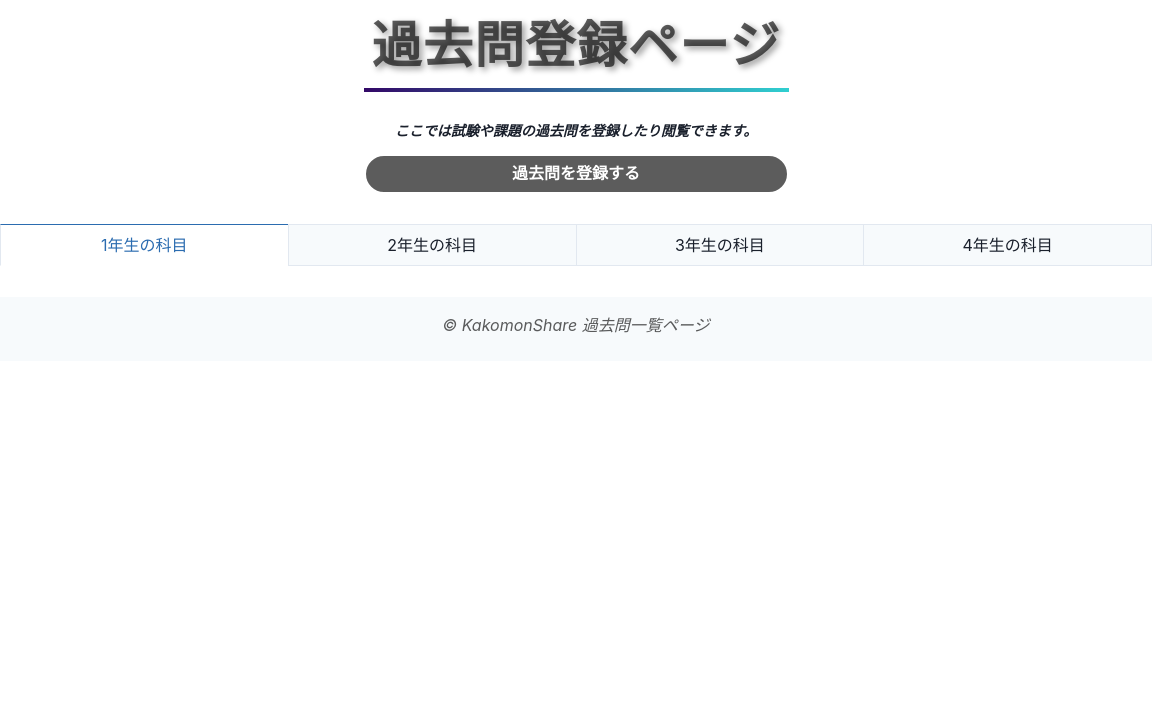
Test: 過去問の募集投稿ページのテスト › 過去問が正常にできるか
The image size is (1152, 720).
過去問登録モーダルを開く
Click the button with test id "kakomon-register-modal" at (576, 174), box left=364, top=154, right=788, bottom=194
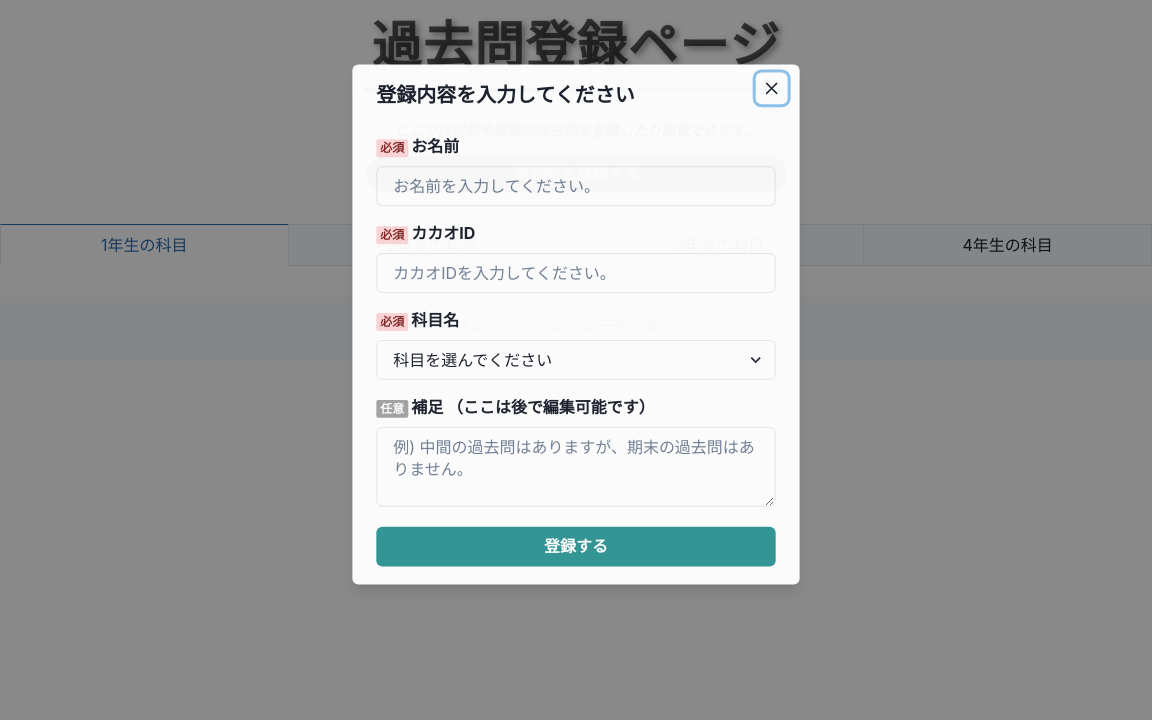
Expected: the button with test id "kakomon-register-button" is shown, left=376, top=527, right=776, bottom=567
フォームに各値を入力
Type "テスト太郎" into the field with test id "name-input" at (576, 186), box left=376, top=166, right=776, bottom=206
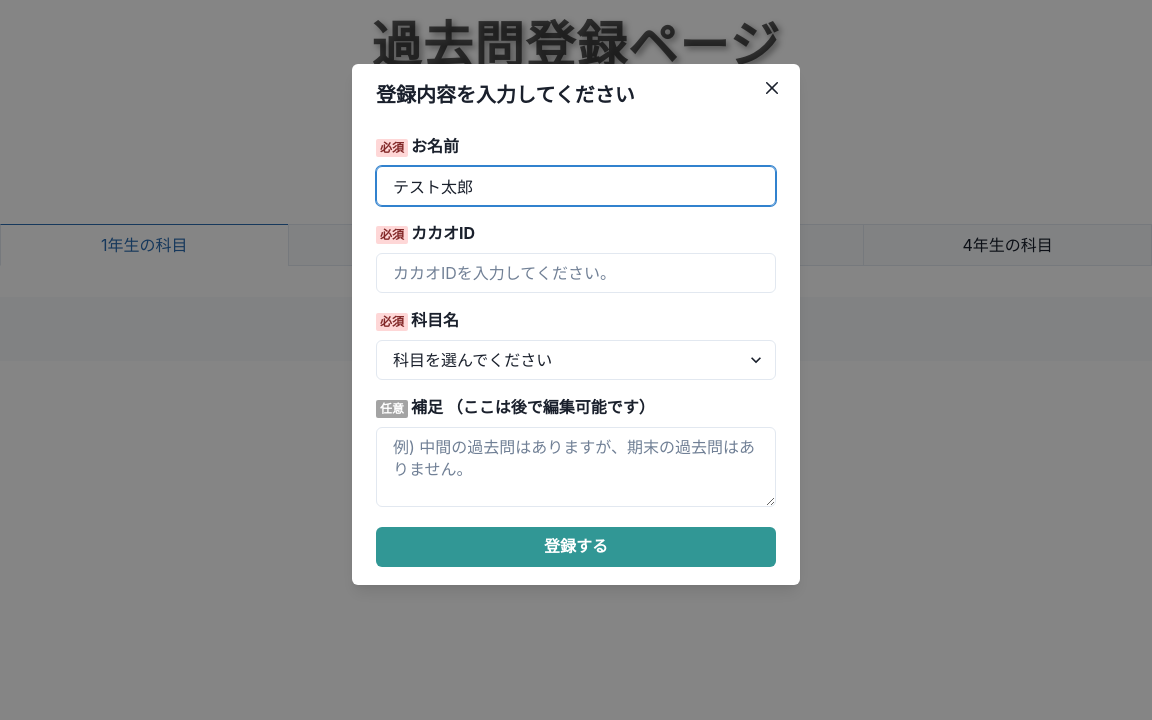
Type "test-id" into the field with test id "kakaoId-input" at (576, 273), box left=376, top=253, right=776, bottom=293
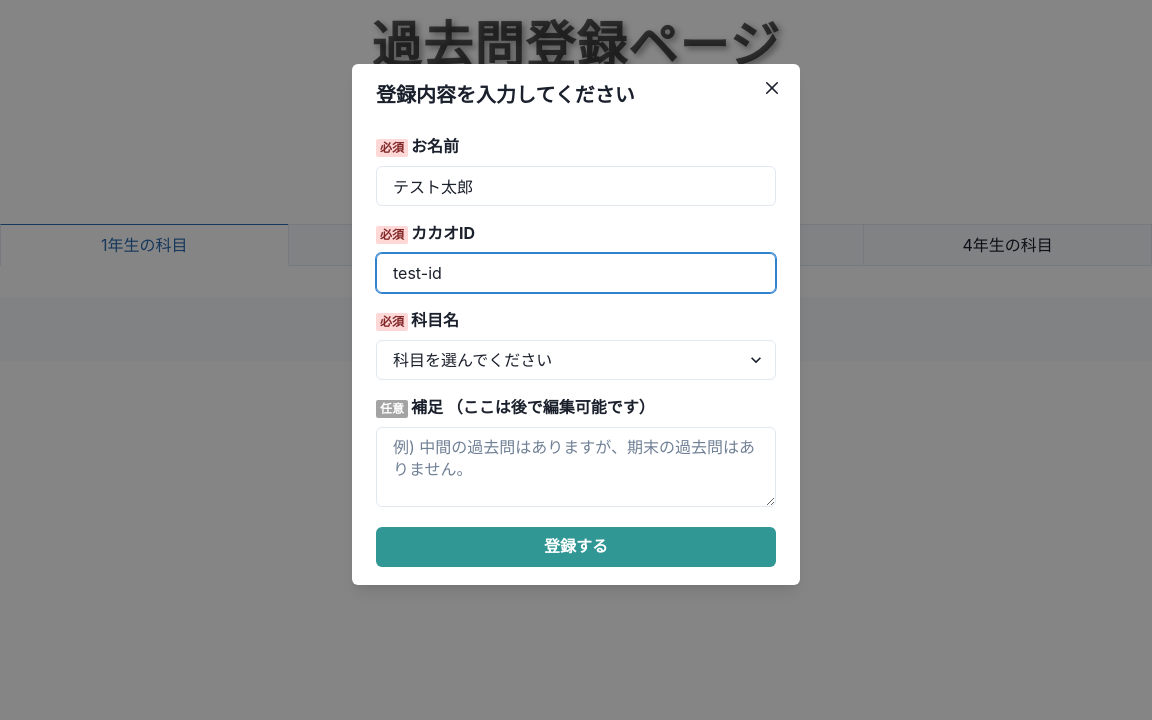
Select "離散数学" in the dropdown with test id "subjectName-input" at (576, 360), box left=376, top=340, right=776, bottom=380
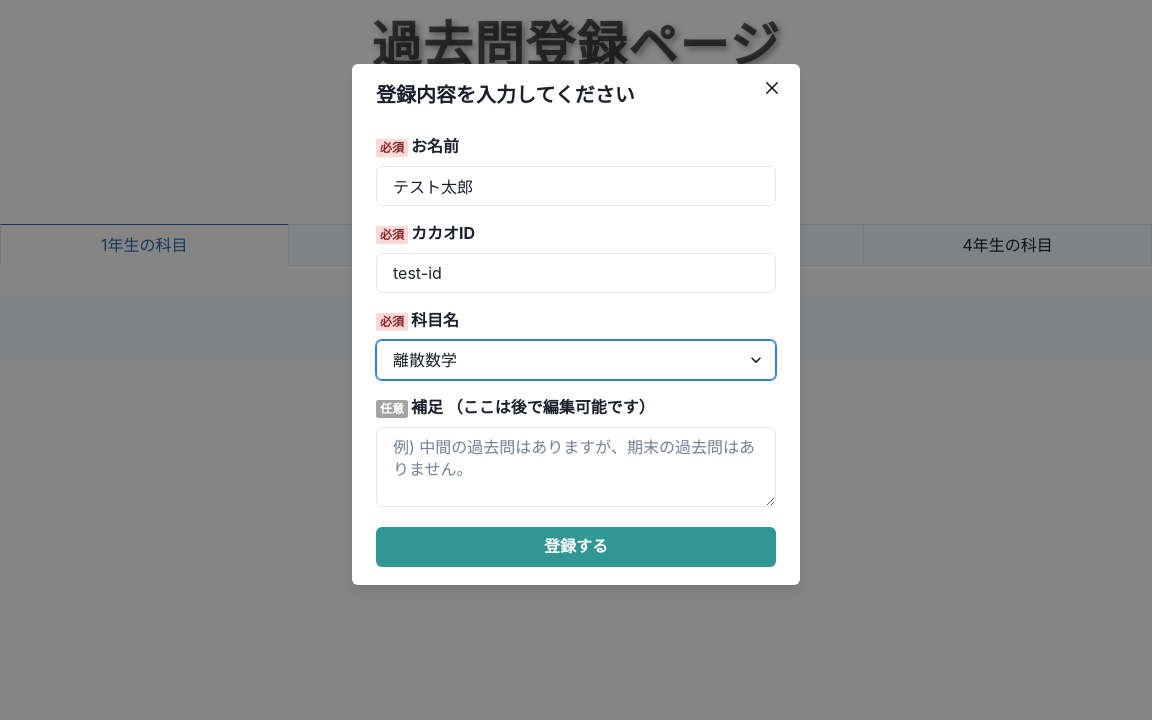
submitボタンを押す
Click the button with test id "kakomon-register-button" at (576, 547), box left=376, top=527, right=776, bottom=567
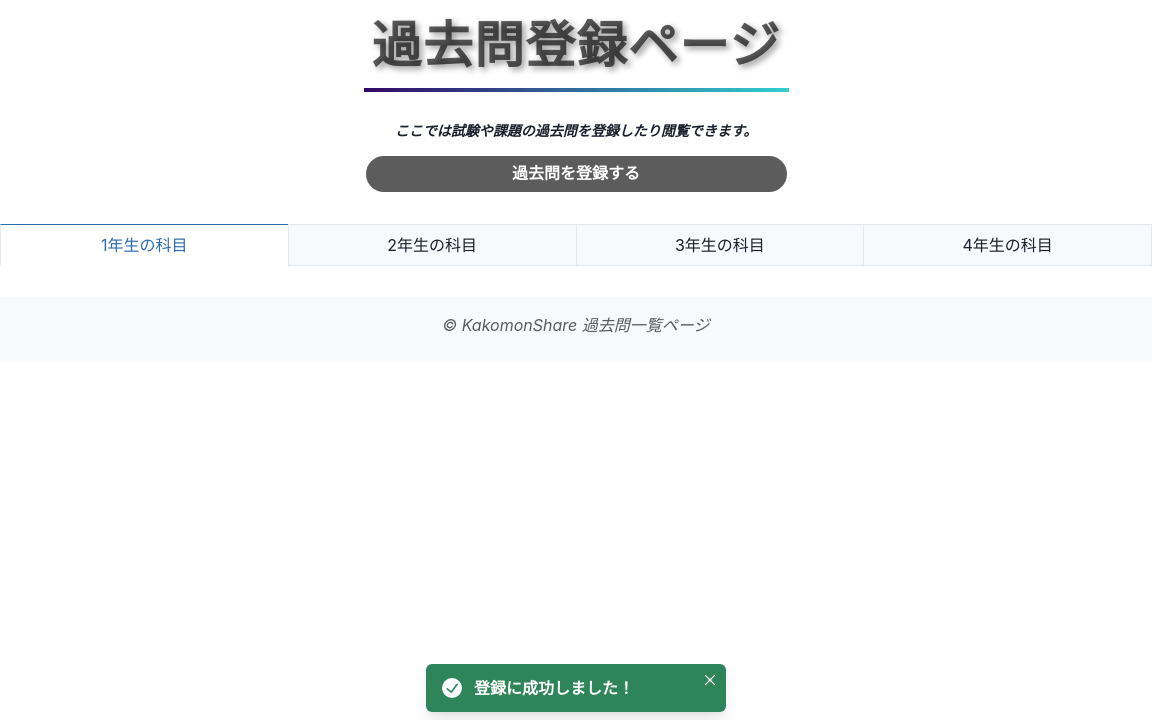
Expected: the text "登録に成功しました！" is shown, left=474, top=678, right=634, bottom=698
